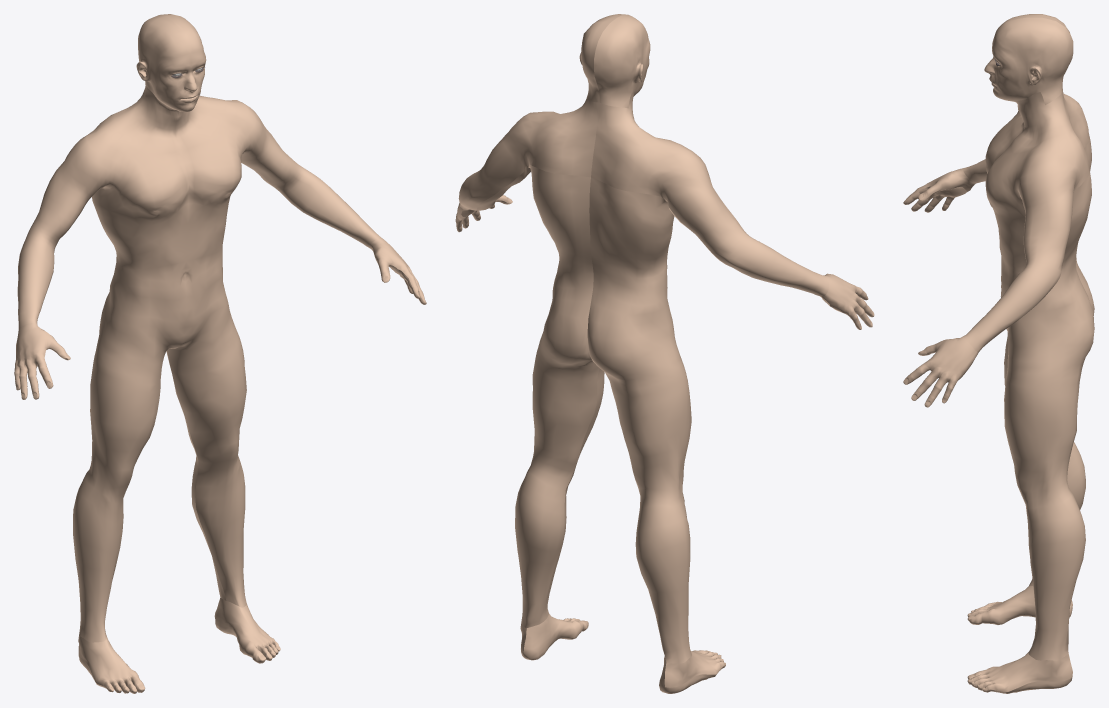
The model's file is body_plain.glb.
3 renders of one model, left to right at view 1: azimuth 30°, elevation 25°; view 2: azimuth 150°, elevation 25°; view 3: azimuth 270°, elevation 25°, orthographic.
Parts seen in each view (by area): view 1: Body; view 2: Body; view 3: Body.
Boxes of the visible parts, left/top/right/bottom form: Body: left=14, top=14, right=426, bottom=693; Body: left=455, top=14, right=874, bottom=693; Body: left=903, top=14, right=1094, bottom=693.
Size of the model in its own units: 1.15 by 1.74 by 0.4755.
